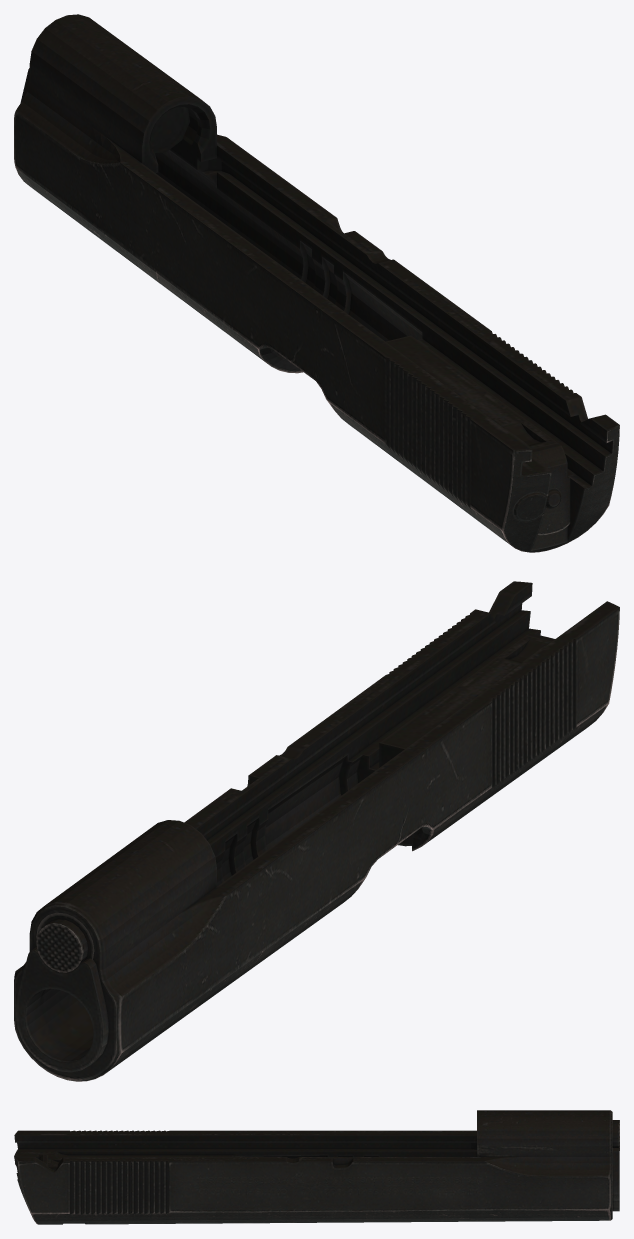
3 views of the same model, one above another, from view 1: azimuth 30°, elevation 25°; view 2: azimuth 150°, elevation 25°; view 3: azimuth 270°, elevation 25° (orthographic). The views are drawn at different scales.
Parts seen in each view (by area): view 1: TW_5e81edc13397a21db957f6a1_PZ_Import; view 2: TW_5e81edc13397a21db957f6a1_PZ_Import; view 3: TW_5e81edc13397a21db957f6a1_PZ_Import.
Part boxes in pixels (x1=…): TW_5e81edc13397a21db957f6a1_PZ_Import: x1=14, y1=14, x2=619, y2=552; TW_5e81edc13397a21db957f6a1_PZ_Import: x1=14, y1=581, x2=619, y2=1081; TW_5e81edc13397a21db957f6a1_PZ_Import: x1=14, y1=1110, x2=619, y2=1224.
Bounding box in the file's own units: 0.0134 × 0.1114 × 0.0221.
Materials: 1 (1 with a texture image).
